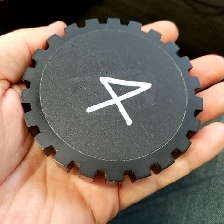gear: (19, 17, 204, 186)
